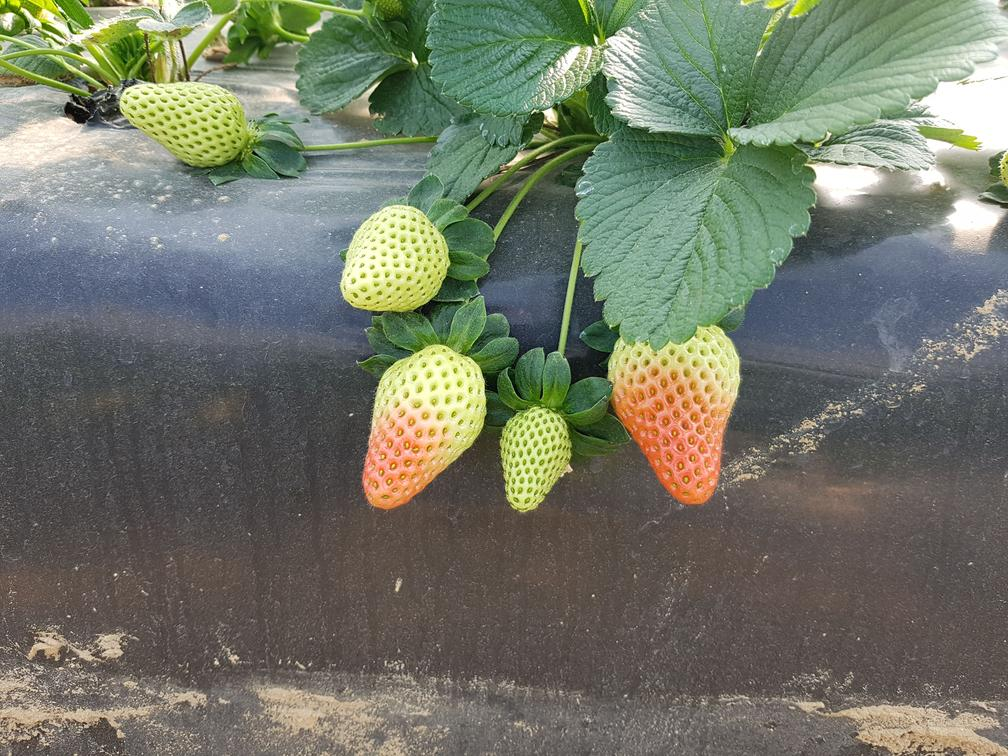Ripe: (606, 339, 745, 516)
Unripe: (362, 342, 489, 518), (338, 195, 455, 316), (113, 79, 260, 171), (500, 399, 579, 514)
